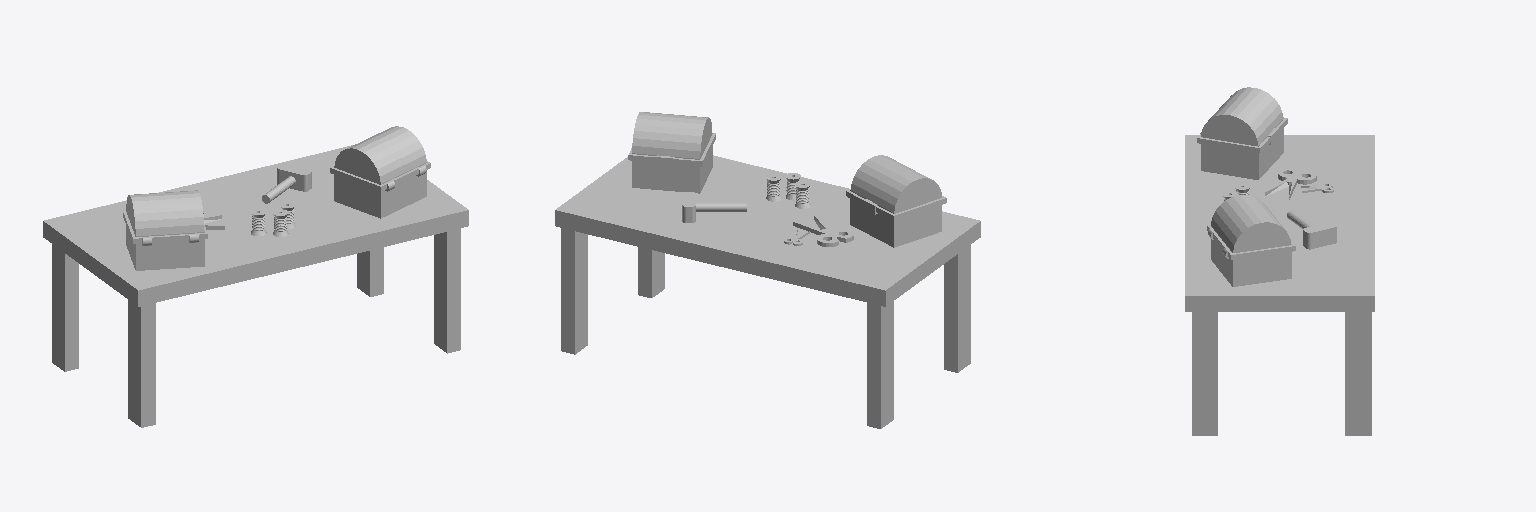
File: armorbench_tier_one.obj
3 renders of one model, left to right at view 1: azimuth 30°, elevation 25°; view 2: azimuth 150°, elevation 25°; view 3: azimuth 270°, elevation 25°, orthographic.
Size of the model in its own units: 4 by 2.34 by 2.